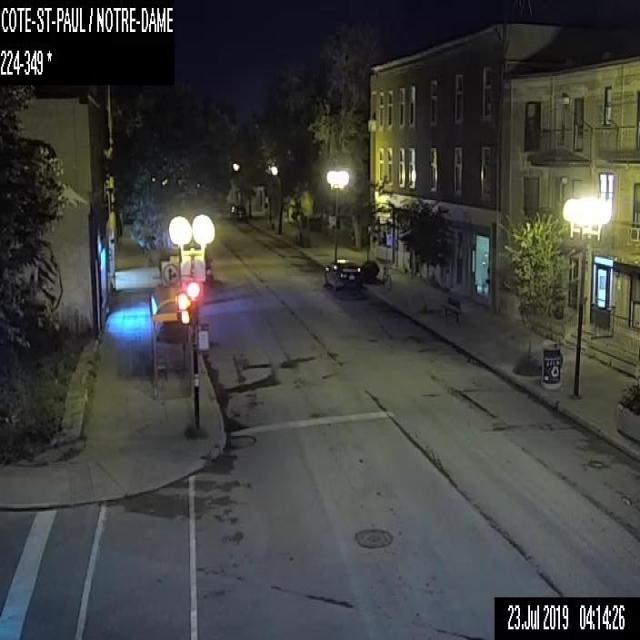vehicle: (322, 257, 362, 295), (202, 249, 213, 284), (229, 204, 245, 221)
